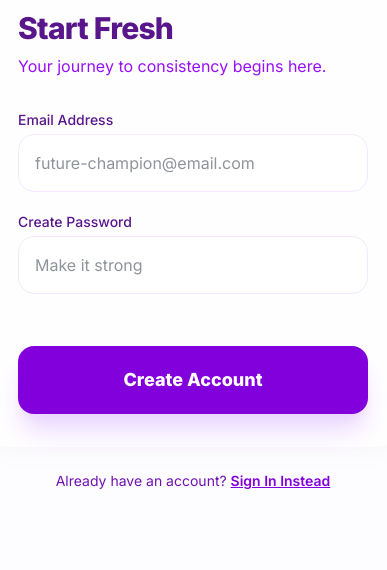
Test: auth flow › shows an error for duplicate signup email
In the field with test id "auth-signup-email": (193,163) [18,134,368,192], type "test@example.com"
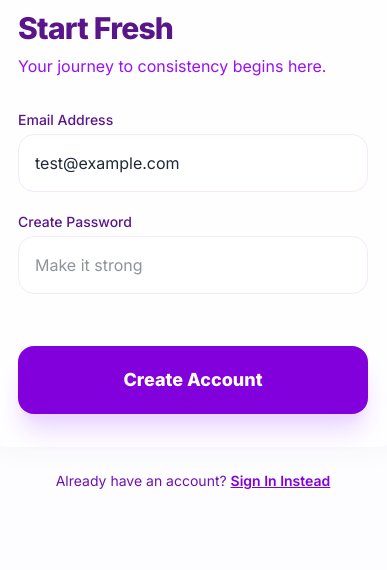
In the password field with test id "auth-signup-password": (193,265) [18,236,368,294], type "password"
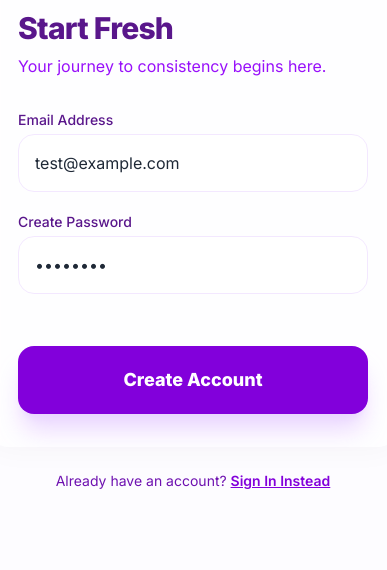
Click the button with test id "auth-signup-submit": (193,380) [18,346,368,414]
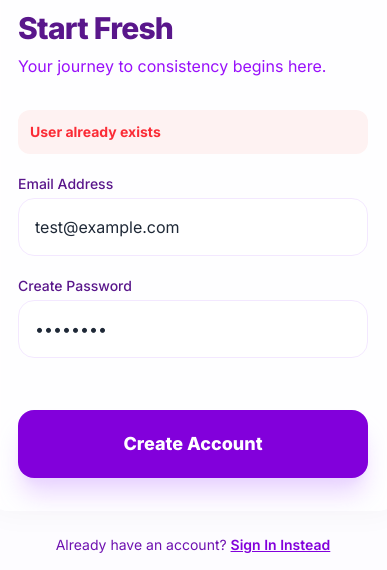
Expected: the text "User already exists" is shown, [18,110,368,154]
